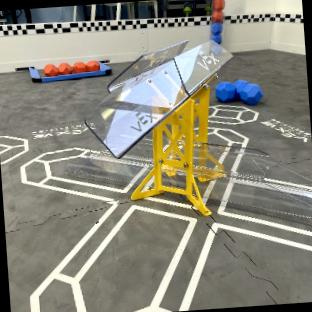V5_BLUE: (215, 79, 262, 104)
V5_RED: (85, 40, 231, 156)
